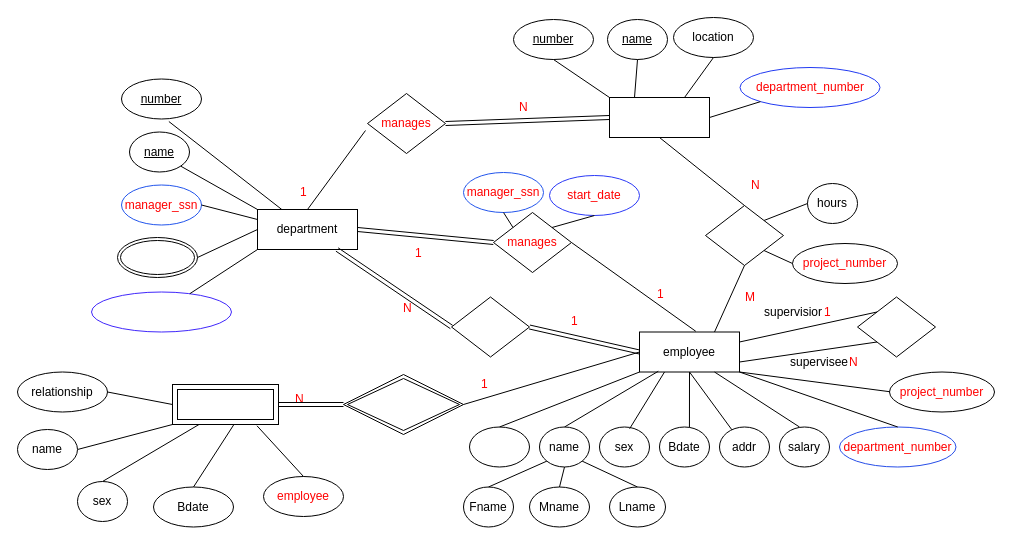
The diagram is 1012 pixels wide and 545 high, and some of its shapes have lost their labels. The shapes that lost their labels are listed below. From the top down, each one's centre as x and y in pixels, then its label:
At point 659,117: "project".
At point 744,235: "works_on".
At point 157,257: "locations".
At point 161,311: "manager_start_date".
At point 490,326: "works_for".
At point 896,326: "supersion".
At point 225,404: "dependent".
At point 403,404: "dependents_of".
At point 499,446: "SSN".
